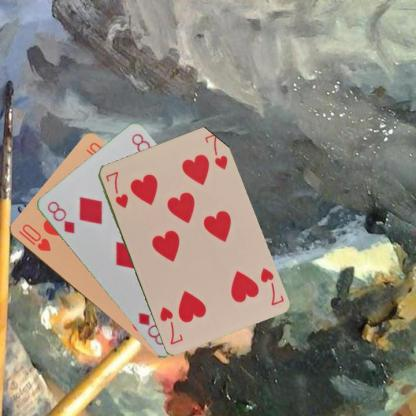10h: (15, 221, 52, 253)
7h: (257, 265, 285, 307), (102, 169, 130, 209)
8d: (44, 198, 76, 235)
